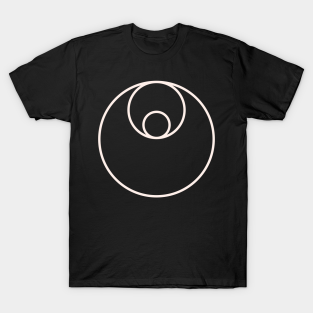design: (96, 79, 217, 199)
